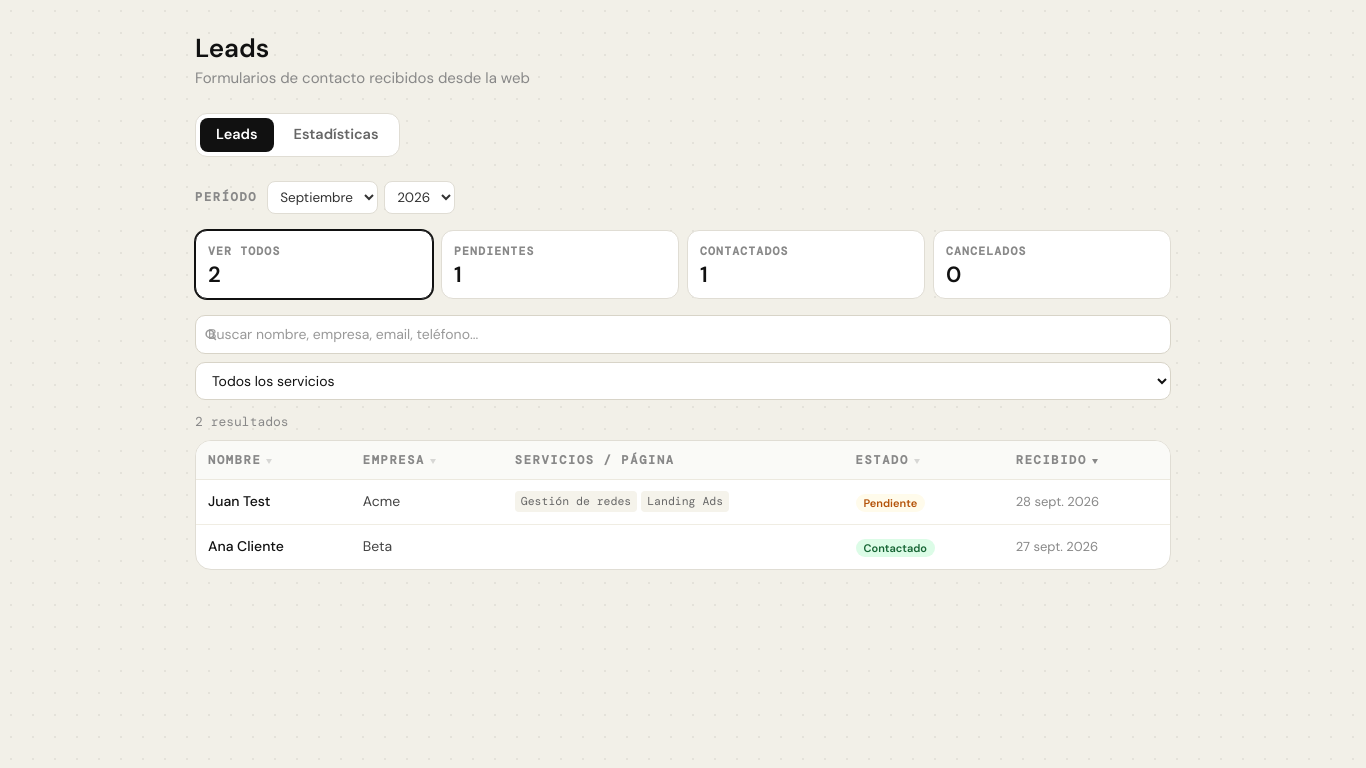
LeadsPage › "Ver todos" resets the status filter without changing the period
Expected: the text "Juan Test" is shown, [196, 479, 351, 524]
Click the text "Pendientes": click(494, 251) [454, 244, 534, 259]
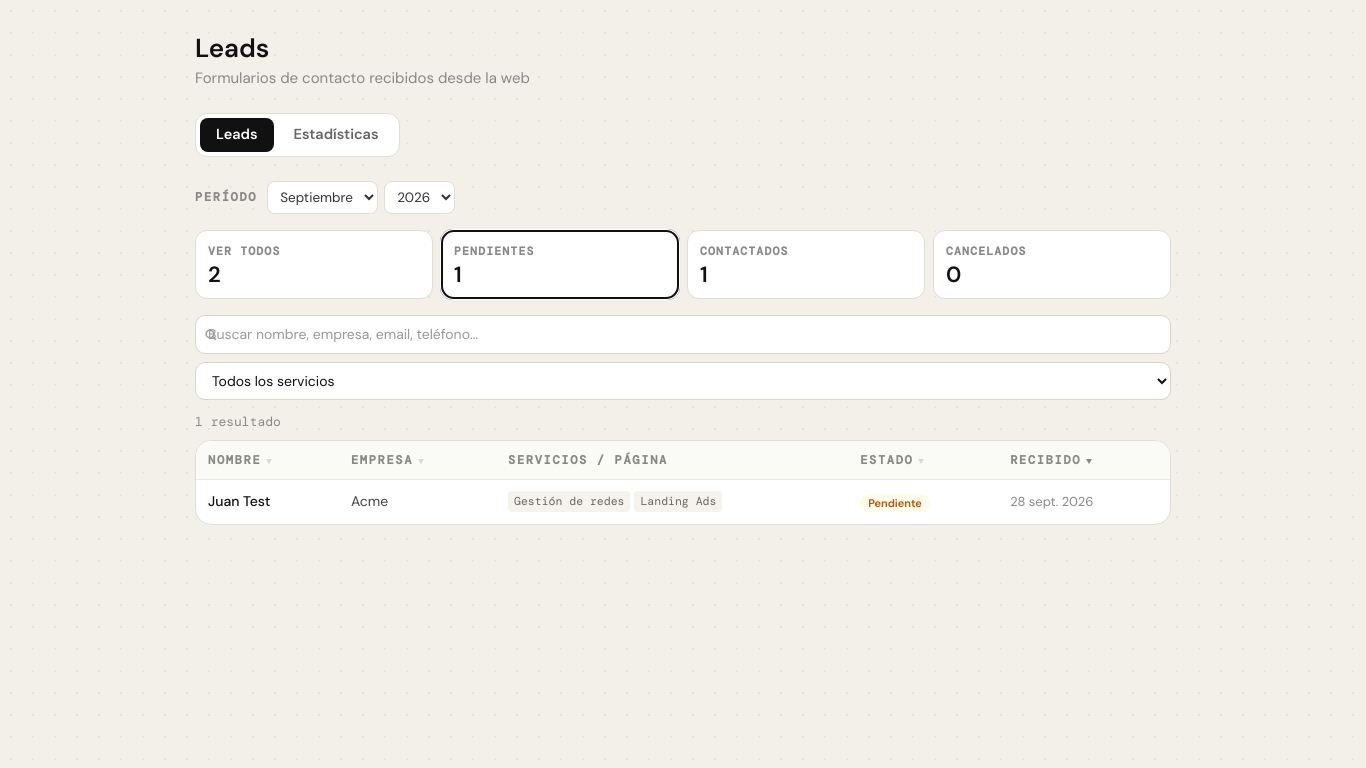
Result: the text "Ana Cliente" is gone
Click the text "Ver todos": click(244, 251) [208, 244, 280, 259]
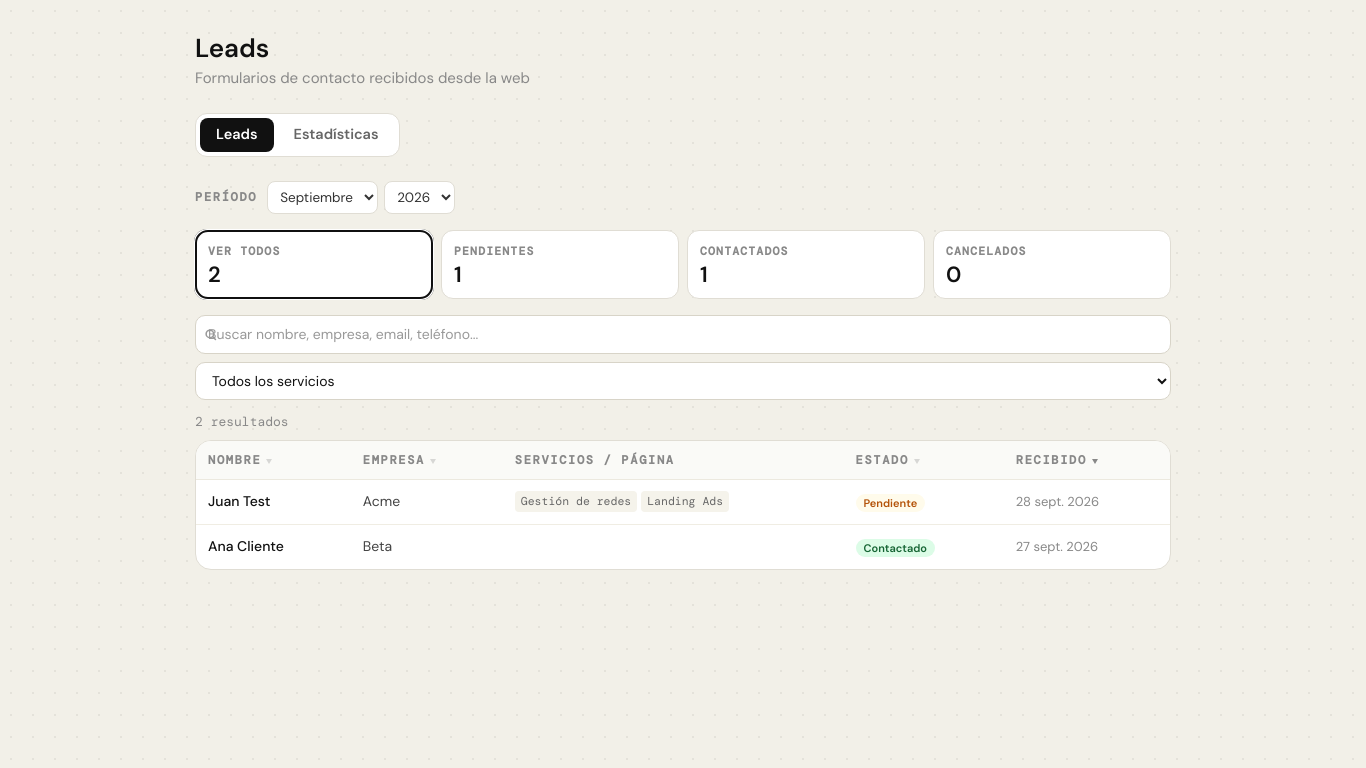
Expected: the text "Juan Test" is shown, [196, 479, 351, 524]
Result: the text "Ana Cliente" is shown at [196, 524, 351, 568]
